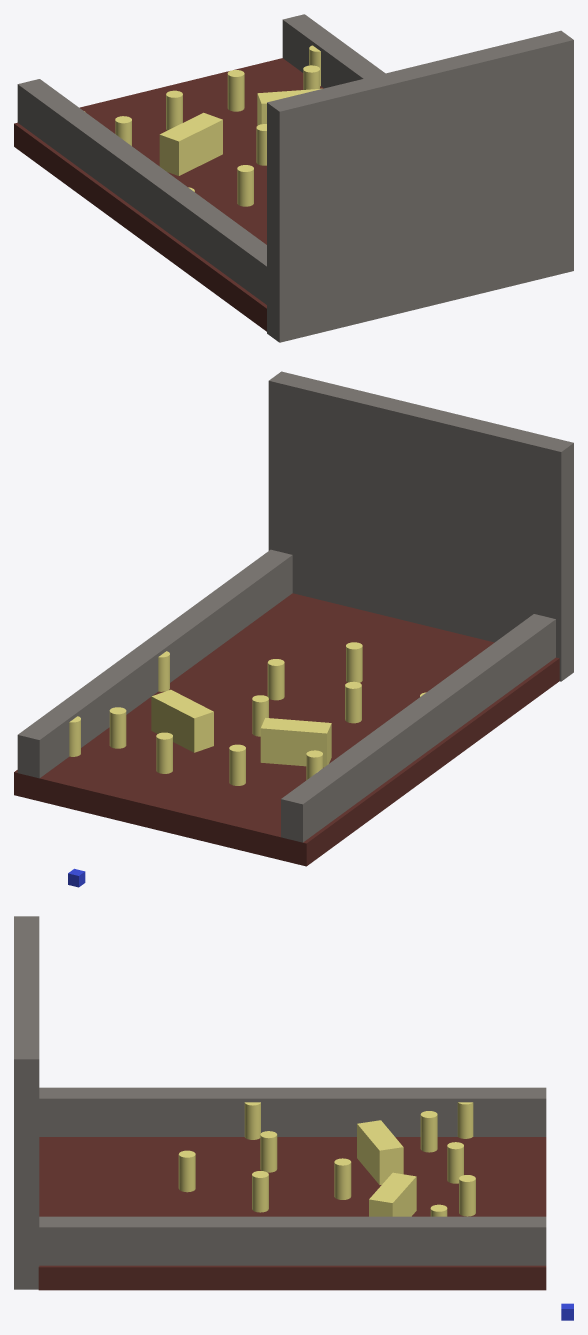
File: oO-pin-field.fbx
The picture shows the model from 3 angles, top to bottom: view 1: azimuth 30°, elevation 25°; view 2: azimuth 150°, elevation 25°; view 3: azimuth 270°, elevation 25°; orthographic projection.
Visible parts, largest first — view 1: wall-2, pin-field-base, wall-0, wall-1, block-pin-1, pin-8, pin-10, block-pin-0, pin-0, pin-3; view 2: wall-2, pin-field-base, wall-0, wall-1, block-pin-1, block-pin-0, pin-4, pin-6, pin-8, pin-10, pin-0, pin-11; view 3: pin-field-base, wall-1, wall-0, wall-2, block-pin-1, block-pin-0, pin-11, pin-5, pin-3, pin-10, pin-8, pin-6 (+3 smaller).
Boxes of the visible parts, left/top/right/bottom form: wall-2: left=267, top=30, right=573, bottom=342; pin-field-base: left=14, top=58, right=323, bottom=331; wall-0: left=17, top=79, right=266, bottom=304; wall-1: left=282, top=14, right=385, bottom=88; block-pin-1: left=159, top=112, right=222, bottom=175; pin-8: left=227, top=70, right=244, bottom=111; pin-10: left=237, top=165, right=253, bottom=206; block-pin-0: left=257, top=88, right=322, bottom=125; pin-0: left=166, top=90, right=182, bottom=130; pin-3: left=256, top=124, right=266, bottom=165; wall-2: left=268, top=371, right=573, bottom=681; pin-field-base: left=14, top=593, right=559, bottom=866; wall-0: left=281, top=614, right=555, bottom=842; wall-1: left=17, top=549, right=292, bottom=778; block-pin-1: left=260, top=718, right=331, bottom=767; block-pin-0: left=151, top=689, right=213, bottom=752; pin-4: left=109, top=707, right=126, bottom=748; pin-6: left=267, top=659, right=284, bottom=700; pin-8: left=156, top=732, right=172, bottom=773; pin-10: left=345, top=681, right=361, bottom=723; pin-0: left=229, top=744, right=245, bottom=785; pin-11: left=346, top=642, right=362, bottom=682; pin-field-base: left=38, top=1137, right=546, bottom=1290; wall-1: left=39, top=1216, right=546, bottom=1265; wall-0: left=39, top=1087, right=546, bottom=1136; wall-2: left=14, top=916, right=39, bottom=1289; block-pin-1: left=357, top=1120, right=403, bottom=1184; block-pin-0: left=369, top=1172, right=416, bottom=1216; pin-11: left=178, top=1150, right=195, bottom=1192; pin-5: left=420, top=1111, right=437, bottom=1152; pin-3: left=334, top=1158, right=351, bottom=1199; pin-10: left=260, top=1131, right=277, bottom=1172; pin-8: left=459, top=1175, right=475, bottom=1216; pin-6: left=252, top=1171, right=268, bottom=1212.
Size of the model in its own units: 4.02 by 3.83 by 6.62.
